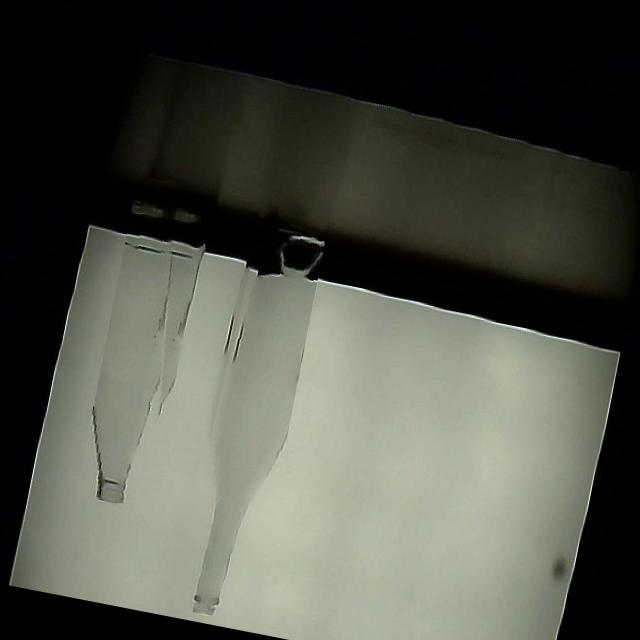Glass: (170, 214, 326, 622), (75, 174, 213, 511)
